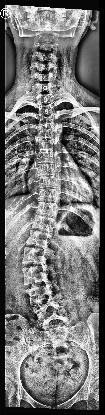Vertebrae: (19, 285, 67, 303), (15, 266, 63, 284), (17, 248, 58, 264), (33, 307, 73, 323), (21, 231, 61, 247), (32, 202, 63, 218), (26, 215, 60, 229), (34, 188, 64, 200), (34, 176, 64, 187), (34, 162, 60, 174), (33, 149, 59, 161), (35, 105, 60, 116), (34, 120, 60, 130), (33, 94, 59, 104), (35, 130, 60, 140), (34, 142, 58, 152)
